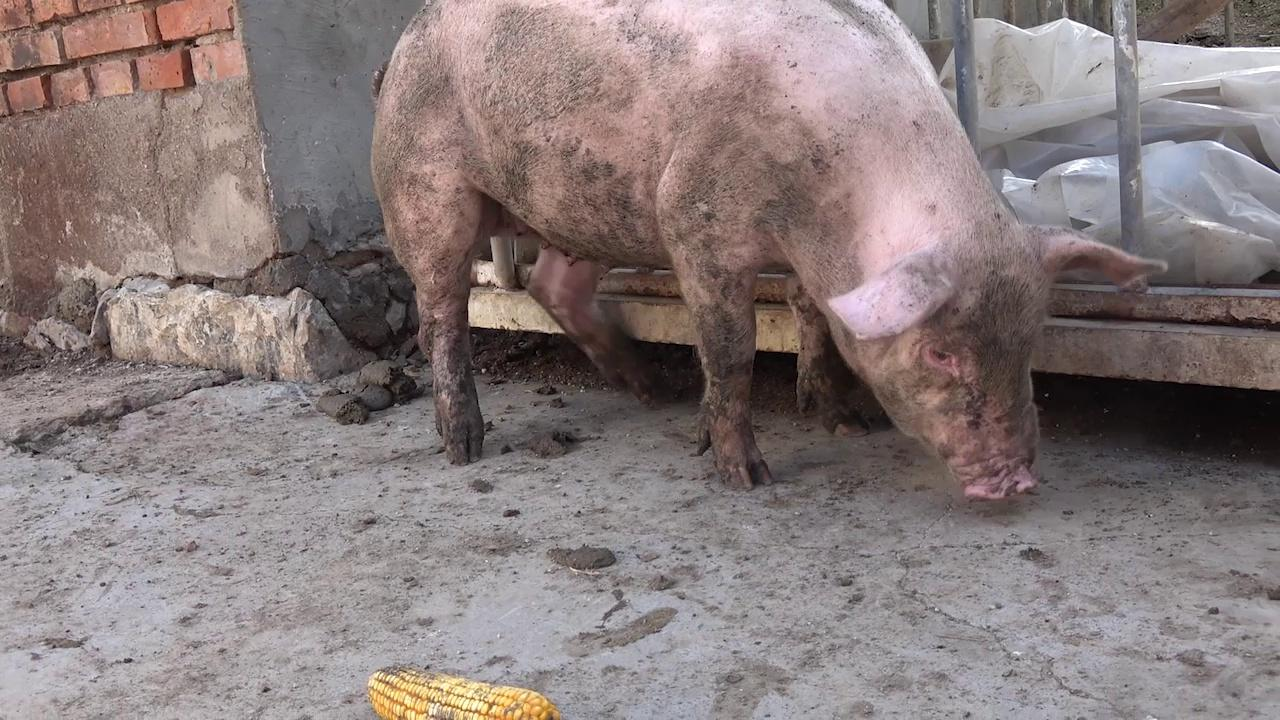Face: (819, 220, 1180, 528)
